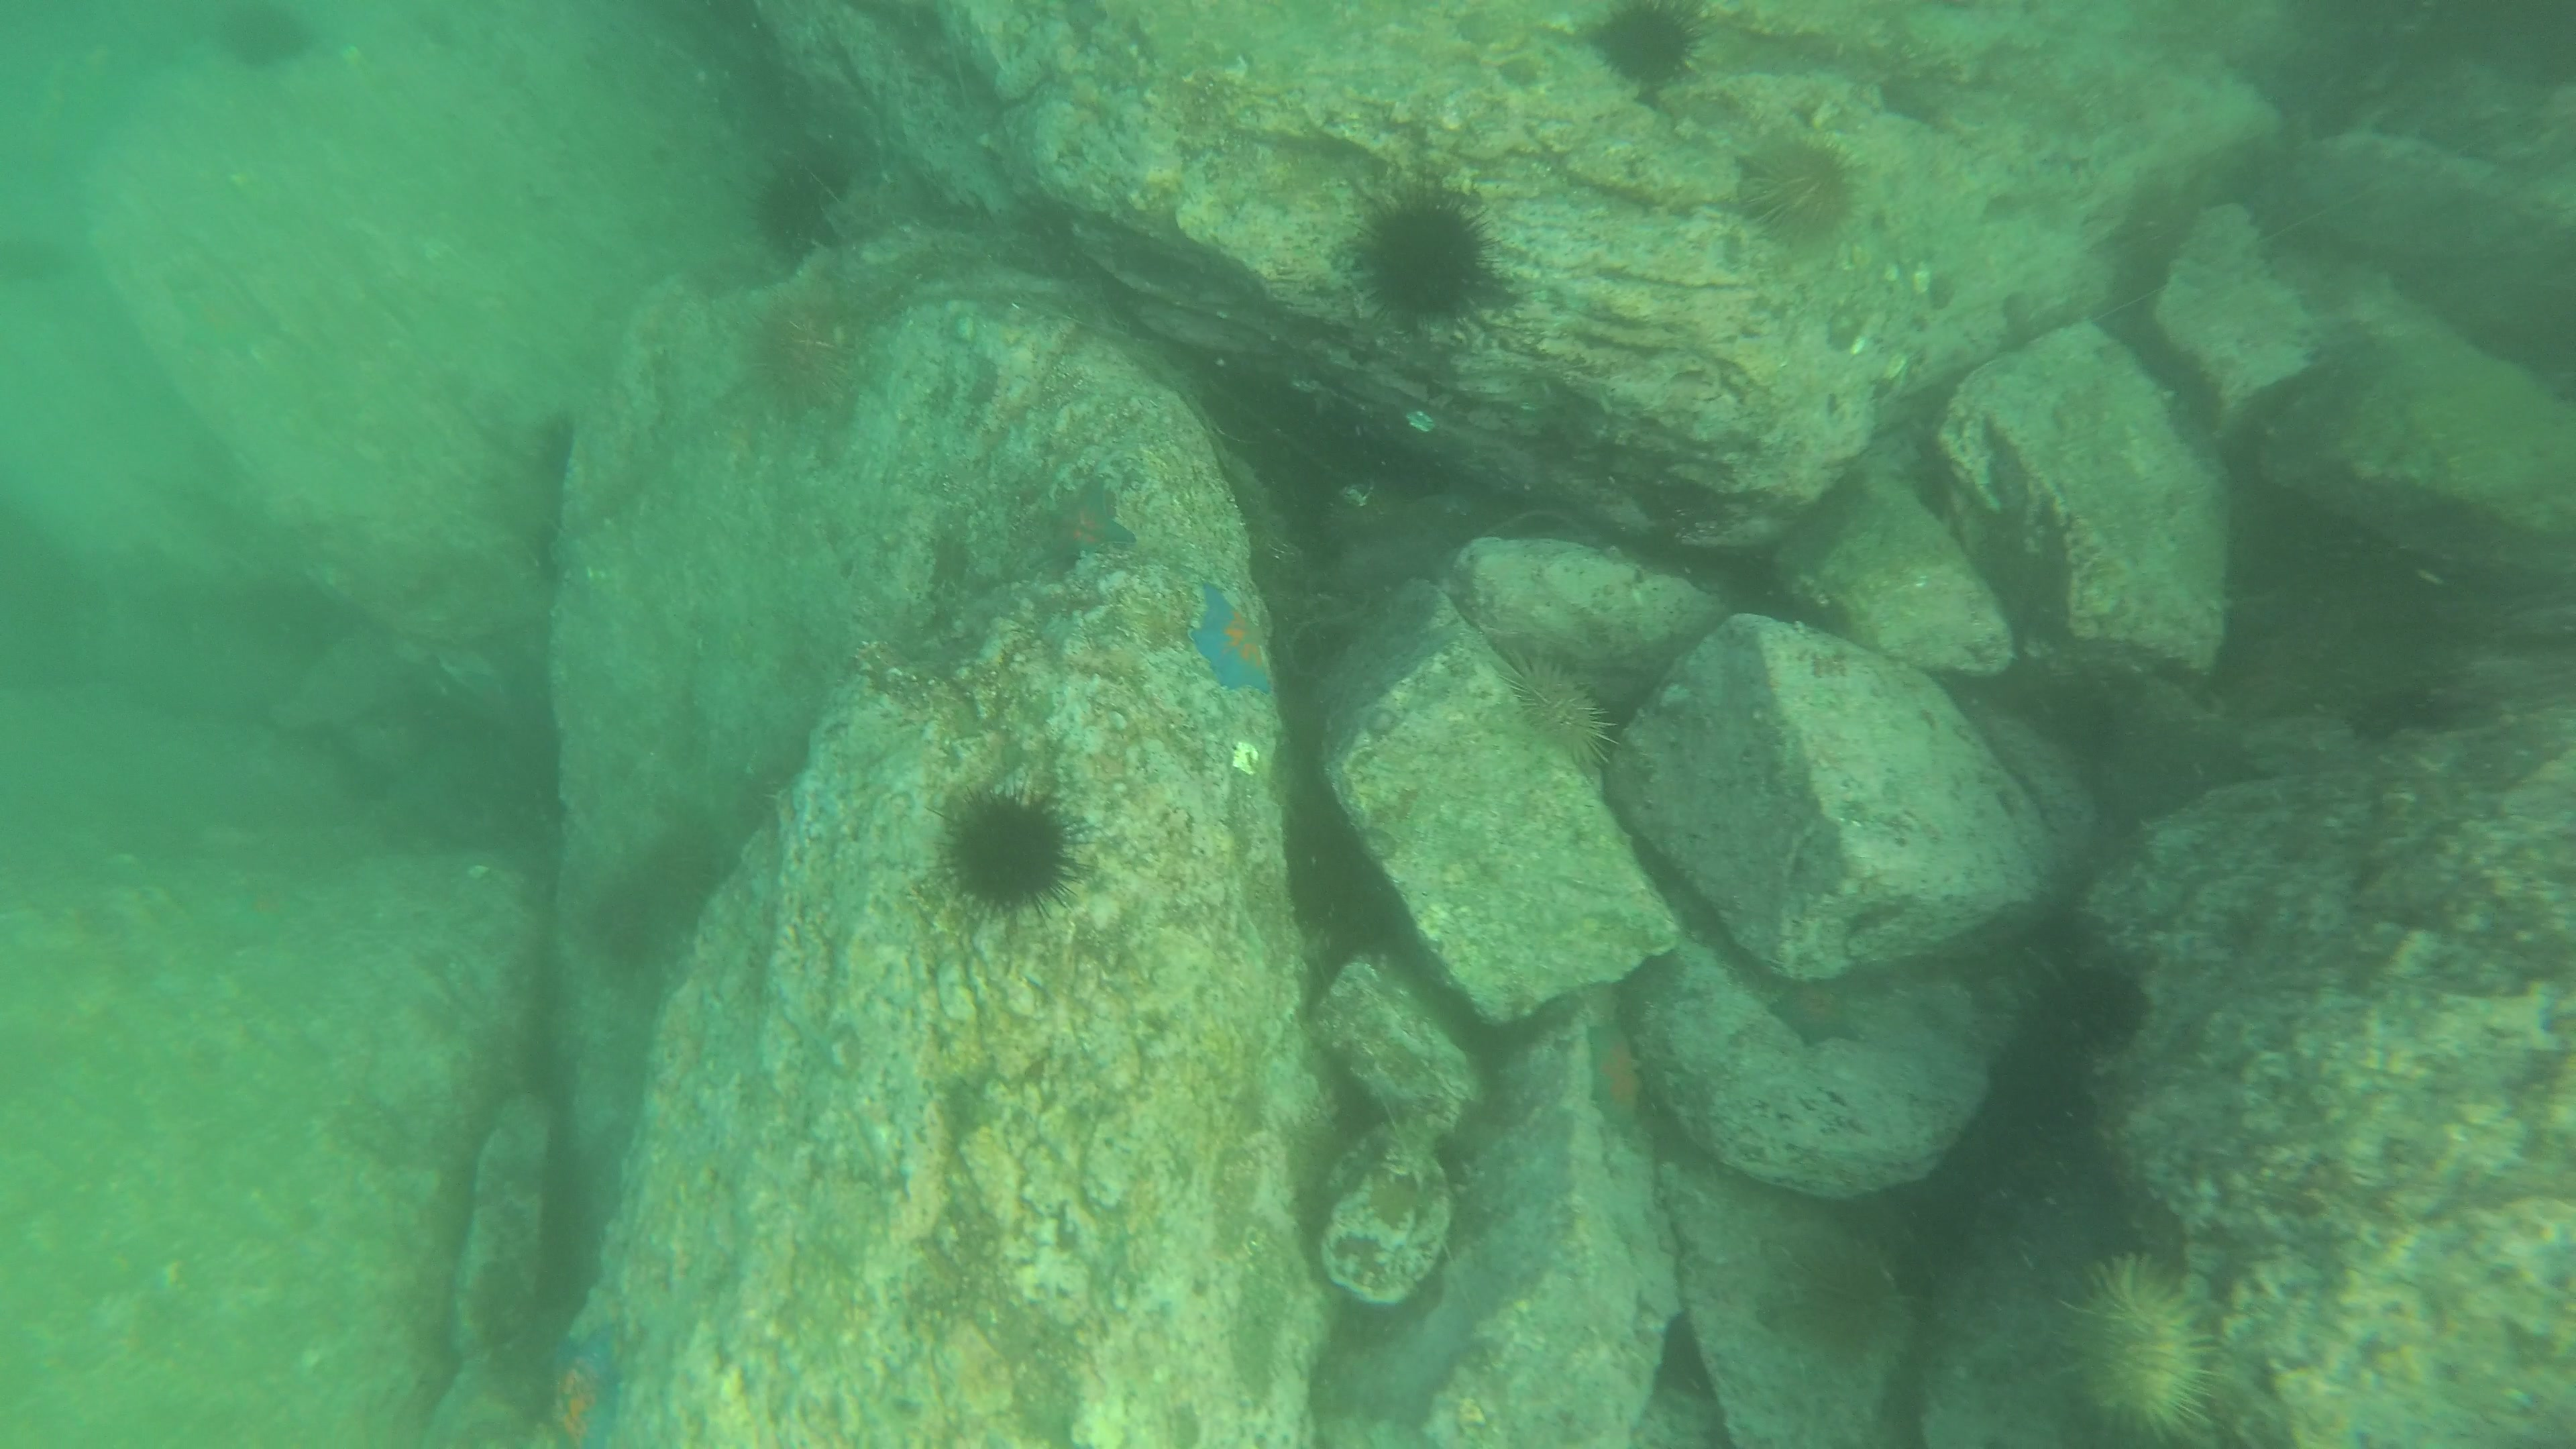echinus: (2066, 1249, 2226, 1433), (1359, 170, 1506, 326), (1769, 1226, 1923, 1361), (1502, 646, 1628, 773), (950, 787, 1069, 918), (1736, 122, 1856, 249), (745, 313, 879, 421), (2031, 957, 2155, 1051), (738, 157, 847, 262), (1582, 4, 1707, 83), (633, 819, 738, 906)
starfish: (520, 1343, 651, 1447), (1182, 577, 1286, 702), (1583, 1014, 1660, 1139), (1775, 973, 1865, 1058), (1035, 483, 1138, 556)
